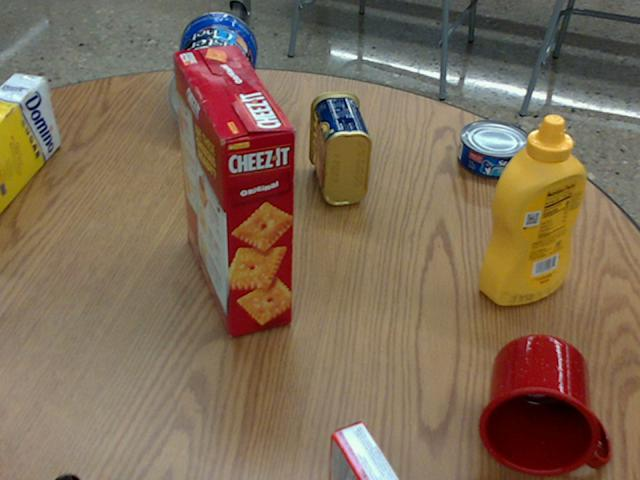cracker_box: (176, 47, 298, 336)
gelatin_box: (328, 423, 396, 479)
large_marker: (64, 478, 76, 479)
master_chef_can: (167, 13, 257, 135)
mug: (480, 335, 608, 476)
mustard_bottle: (479, 115, 586, 303)
potted_meat_can: (310, 90, 373, 204)
sugar_box: (0, 73, 60, 214)
tuna_fish_can: (458, 119, 531, 179)
